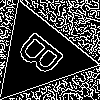B: (14, 30, 74, 85)
